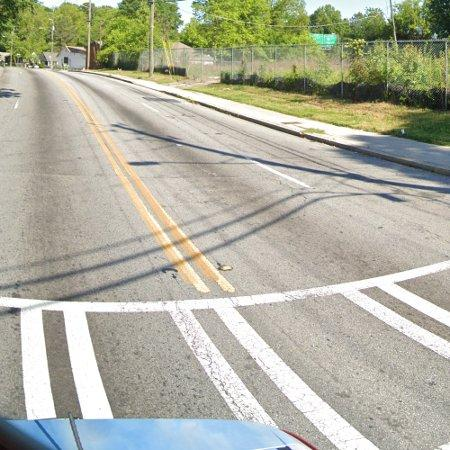crosswalks: (0, 261, 450, 450)
